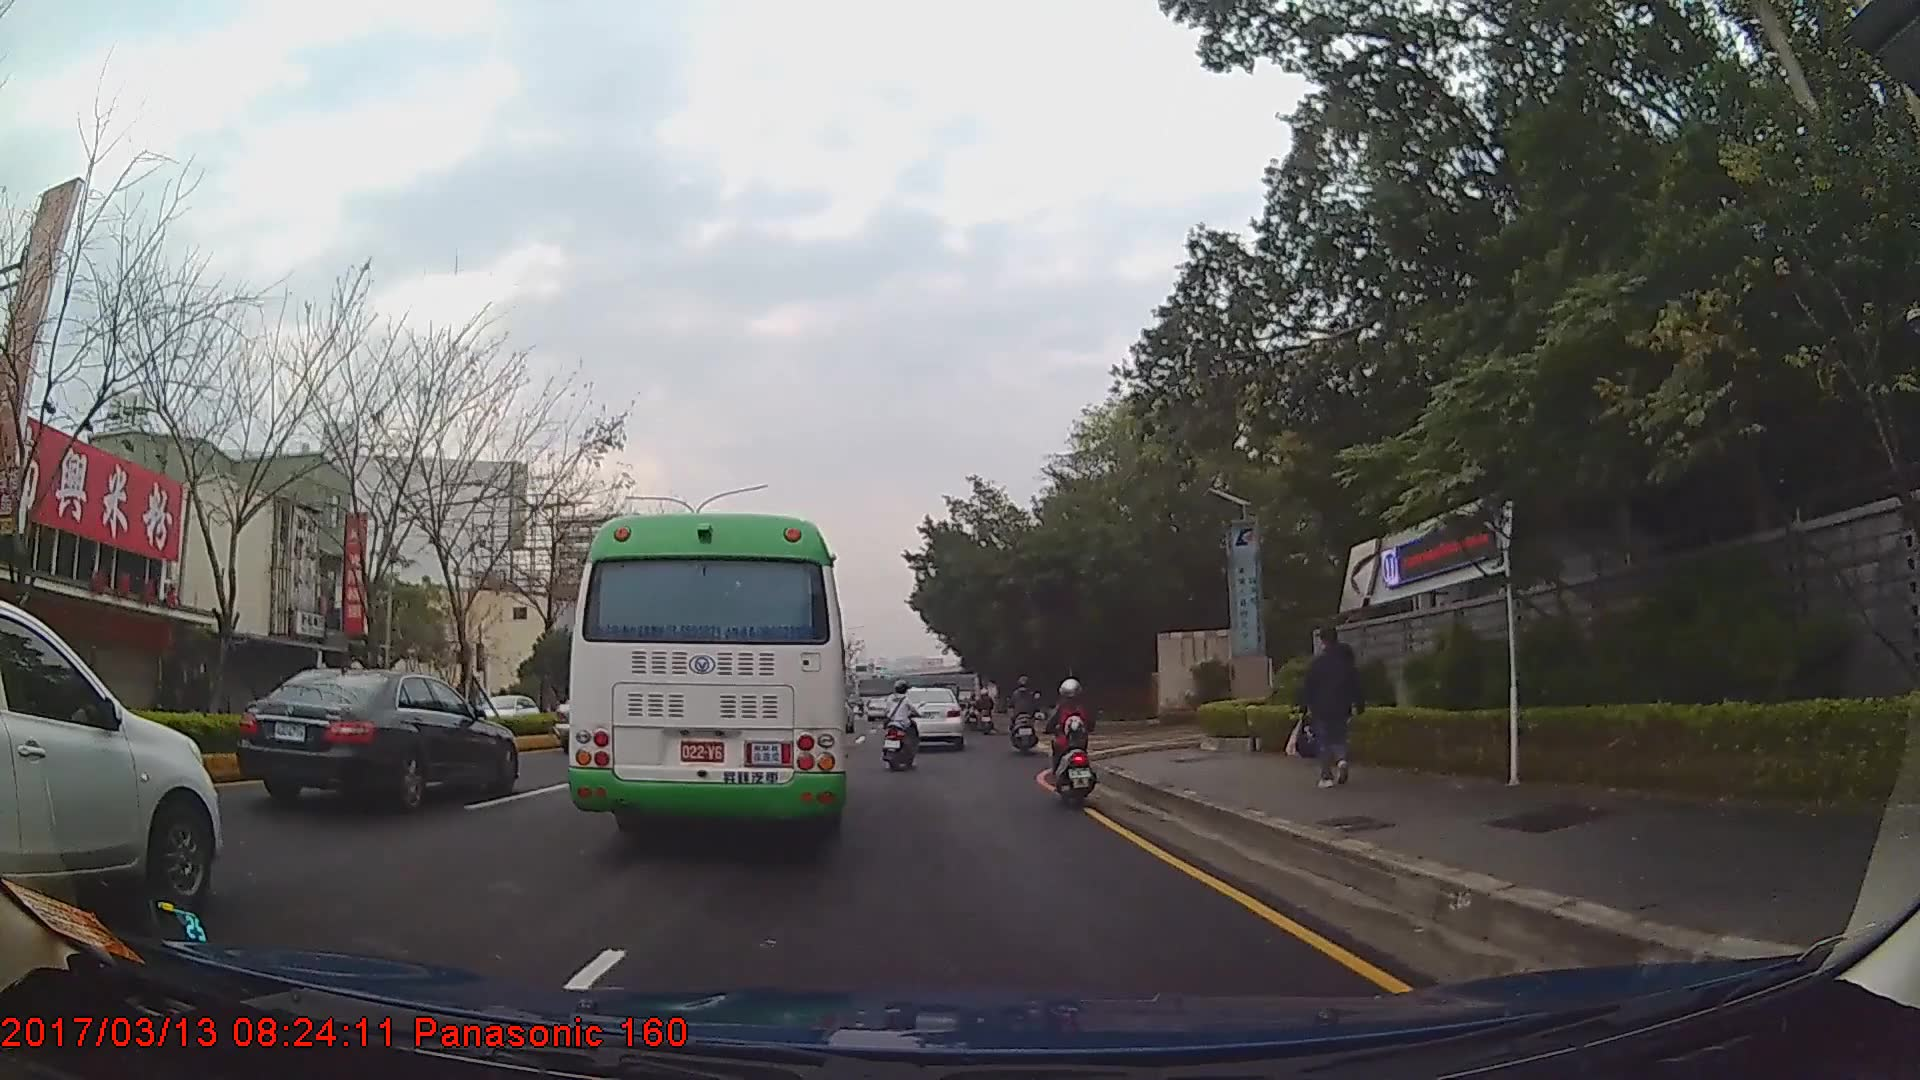pedestrian: (1288, 632, 1368, 786)
rider: (1049, 676, 1095, 803), (882, 681, 920, 769), (1008, 675, 1043, 752), (975, 688, 995, 723)
vehicle: (563, 507, 856, 850), (0, 594, 224, 911), (233, 665, 518, 810), (892, 682, 963, 751), (459, 685, 542, 730)
